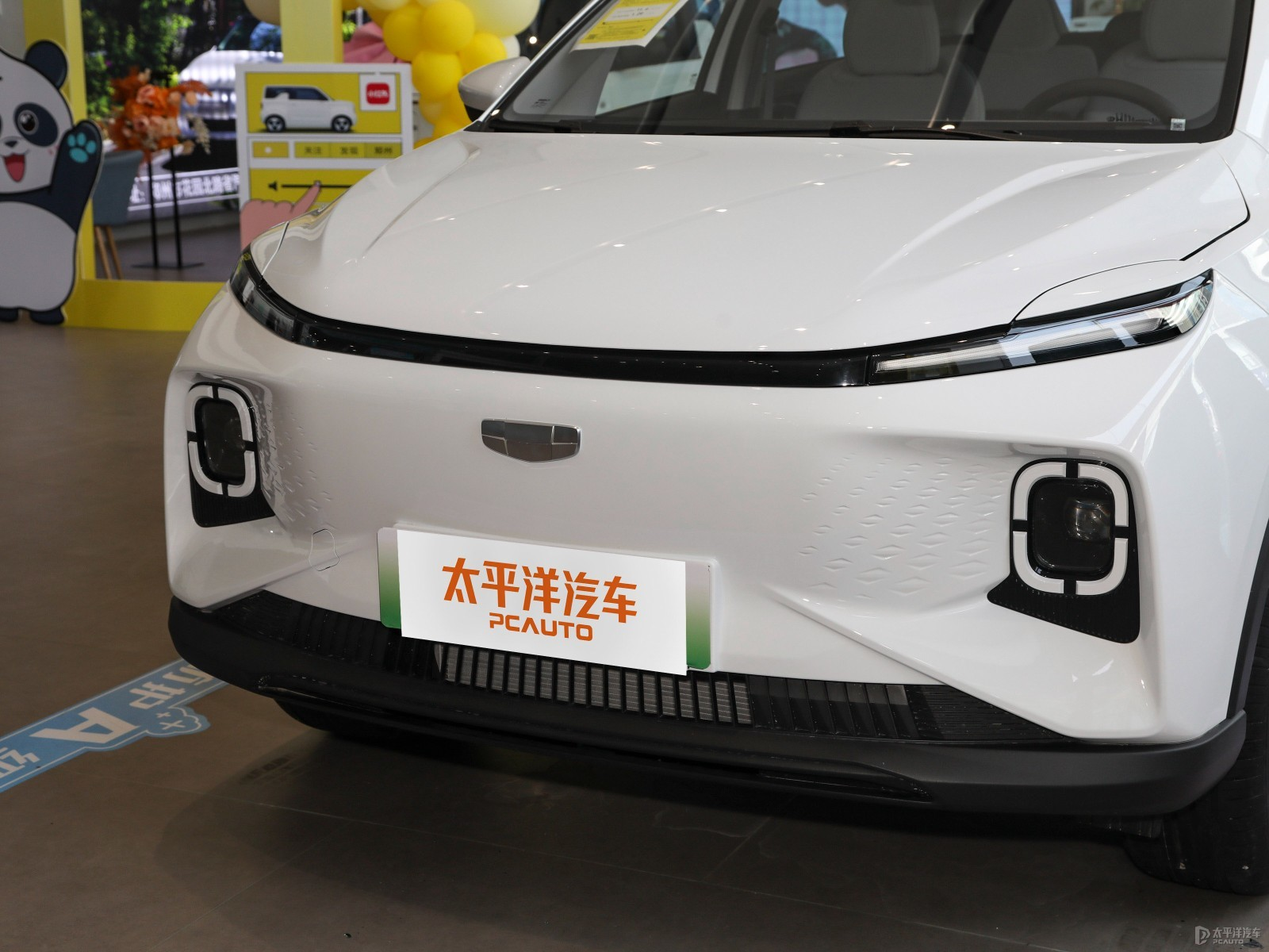GEOMETRY: (481, 419, 579, 463)
